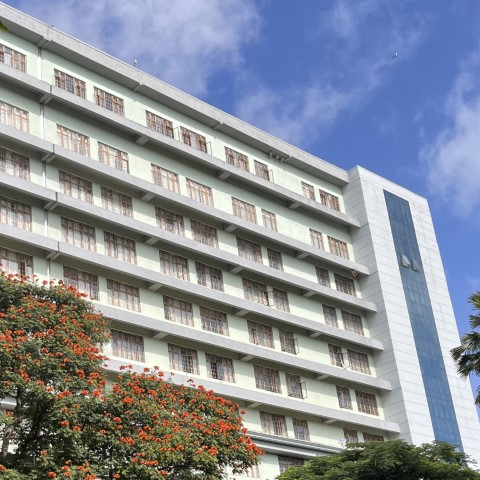Central Block: (1, 1, 480, 480)
